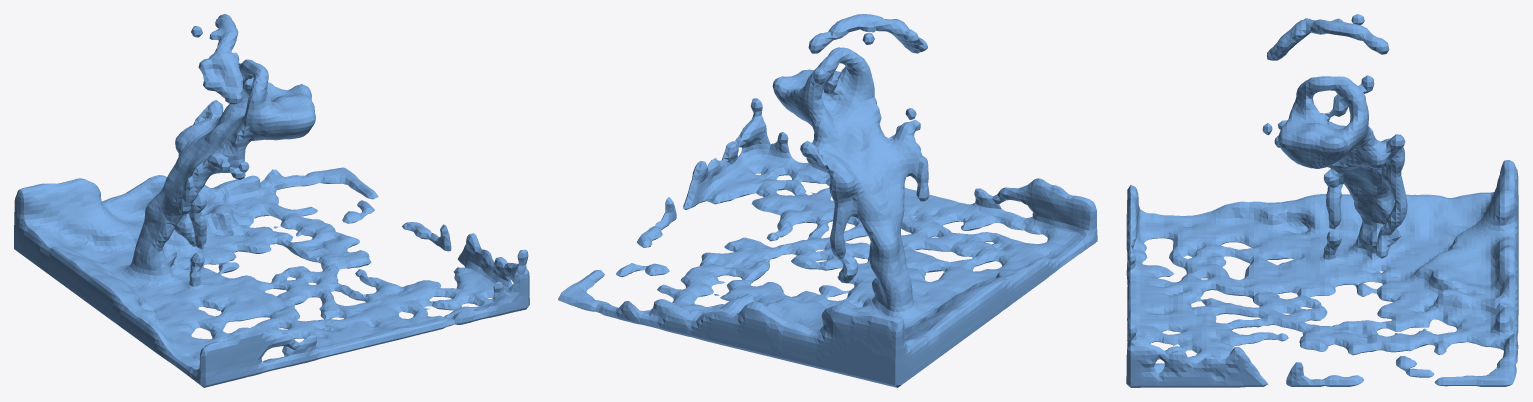
File: water_0062.glb
3 views of the same model, side by side, from view 1: azimuth 30°, elevation 25°; view 2: azimuth 150°, elevation 25°; view 3: azimuth 270°, elevation 25° (orthographic). The views are drawn at different scales.
Parts seen in each view (by area): view 1: Water_0062; view 2: Water_0062; view 3: Water_0062.
Part boxes in pixels (<box>): Water_0062: <box>14,14,529,387</box>; Water_0062: <box>558,14,1097,387</box>; Water_0062: <box>1126,14,1518,387</box>.
Bounding box in the file's own units: 4.83 × 3.63 × 4.83.
